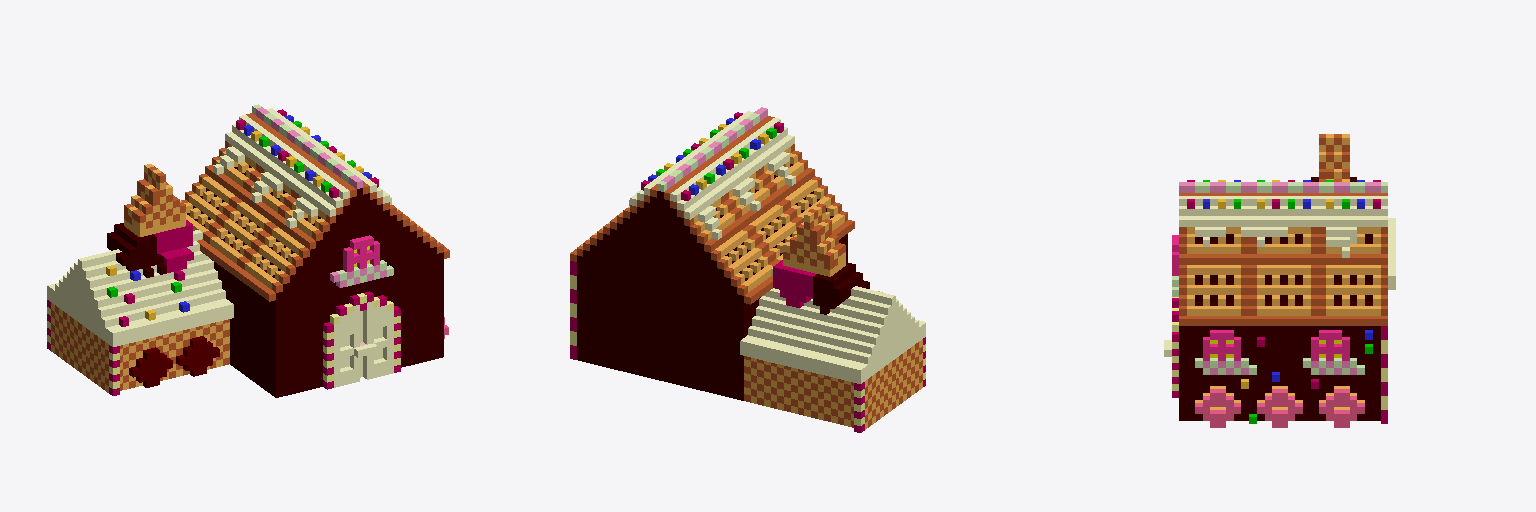
3 renders of one model, left to right at view 1: azimuth 30°, elevation 25°; view 2: azimuth 150°, elevation 25°; view 3: azimuth 270°, elevation 25°, orthographic.
Visible parts, largest first — view 1: object 1; view 2: object 1; view 3: object 1.
Boxes of the visible parts, x1=… form: object 1: x1=47, y1=104, x2=449, y2=397; object 1: x1=570, y1=107, x2=925, y2=432; object 1: x1=1164, y1=134, x2=1395, y2=427.
Size of the model in its own units: 4.5 by 2.8 by 3.
Materials: 1 (1 with a texture image).